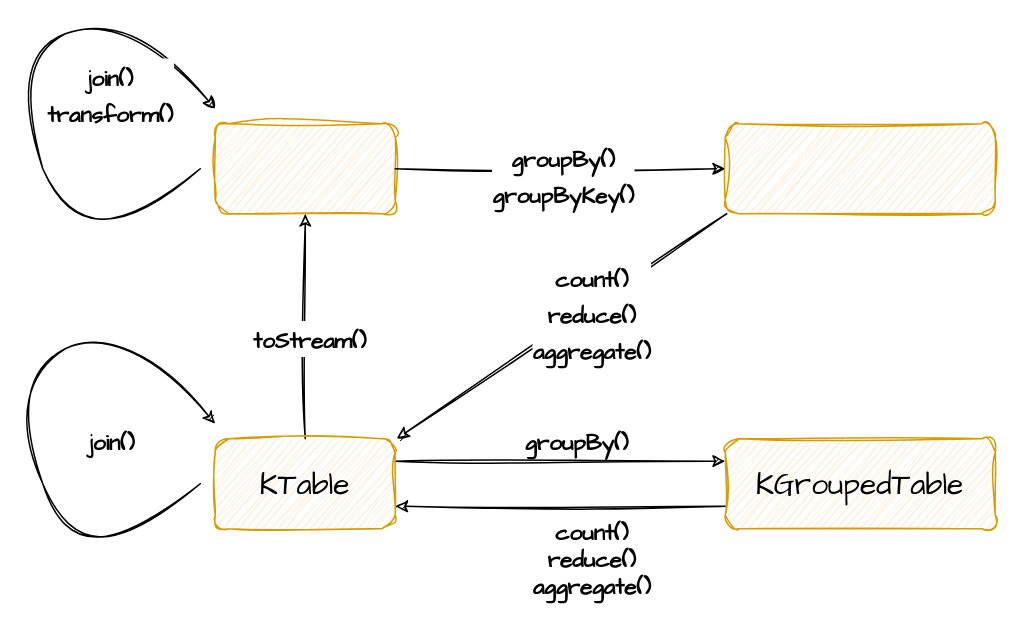
The diagram is 1022 pixels wide and 627 high, and some of its shapes have lost their labels. The centre of each missing label's shape, as x and y in pixels:
"KGroupedStream" belongs at (859,168).
"KStream" belongs at (304,168).
